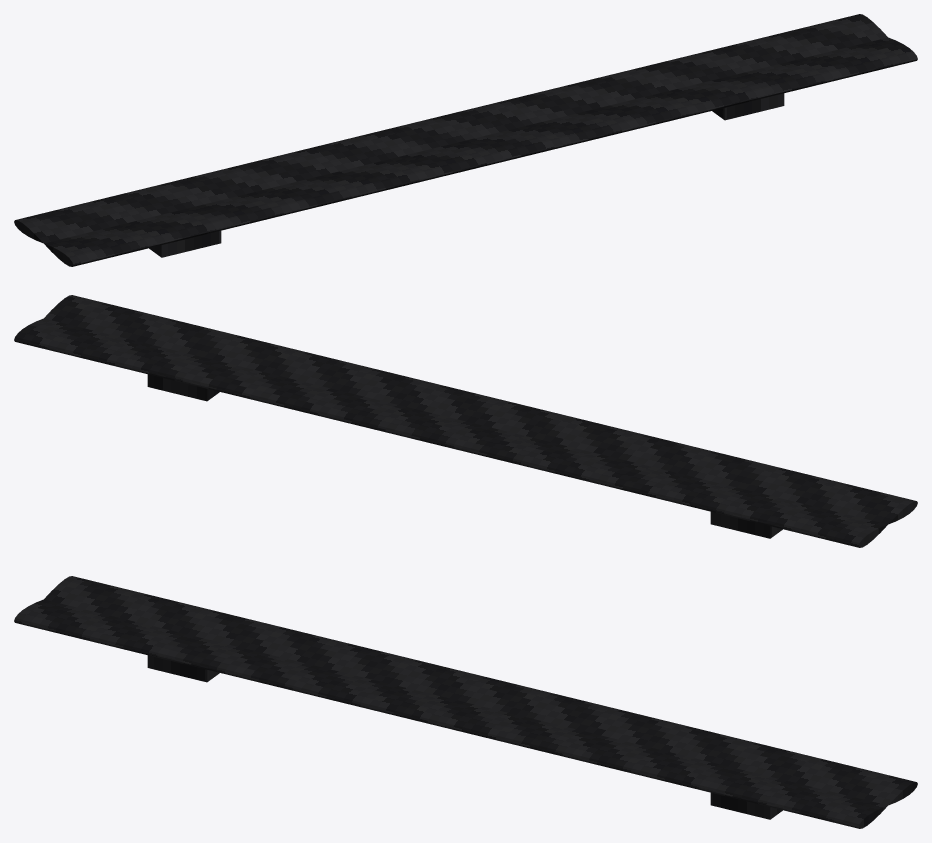
The model's file is wing_street.obj.
The picture shows the model from 3 angles, top to bottom: view 1: azimuth 30°, elevation 25°; view 2: azimuth 150°, elevation 25°; view 3: azimuth 330°, elevation 25°; orthographic projection.
Size of the model in its own units: 1.56 by 0.0725 by 0.19.
Materials: 1 (1 with a texture image).
